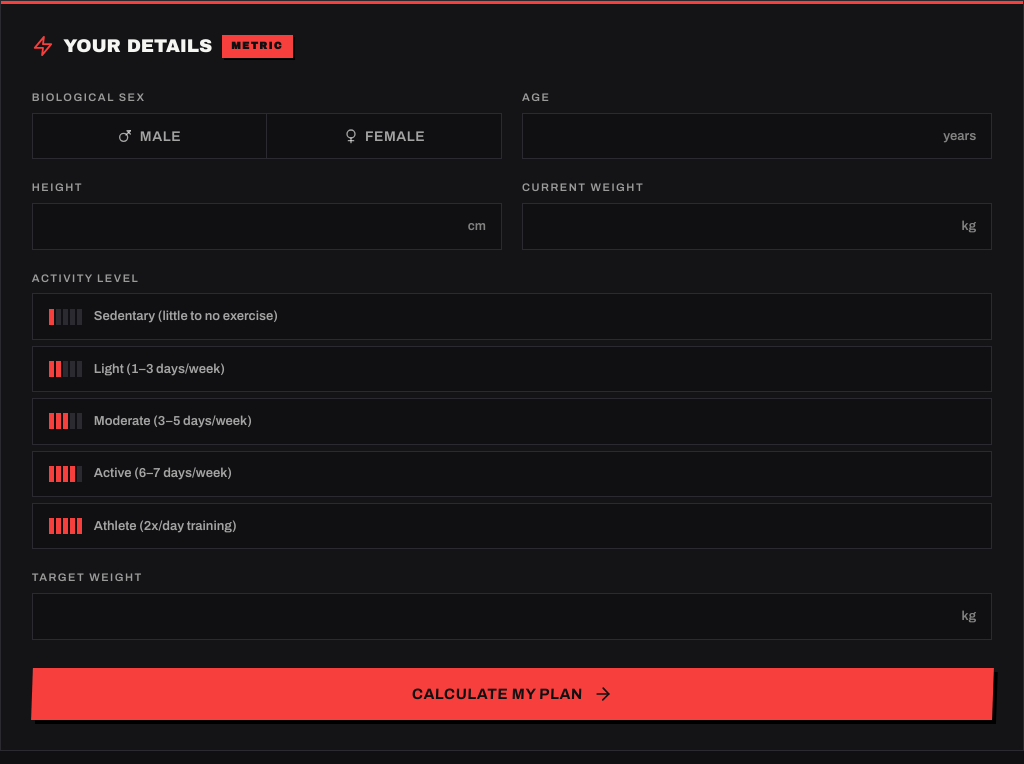
UserForm › validation › shows error for age above 100
Step 1. Type "120" into the number field next to "years" → coordinates (757, 136), box [522,113,992,159]
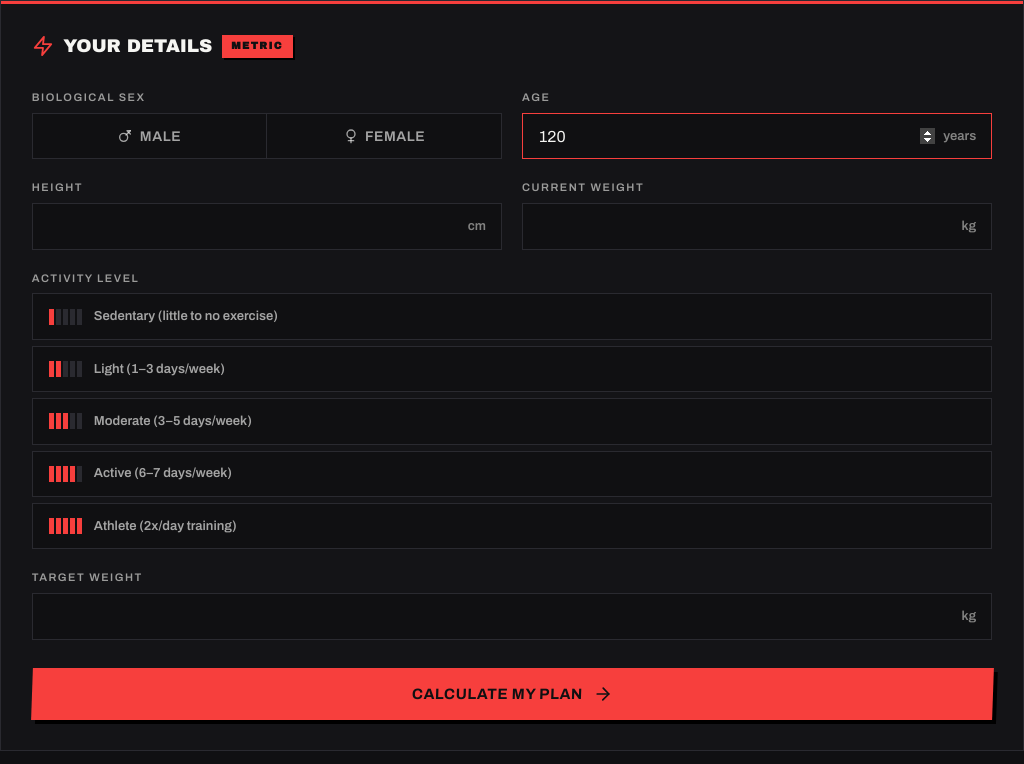
Step 2. Click the button "Calculate My Plan" → coordinates (512, 694), box [31,668,993,720]
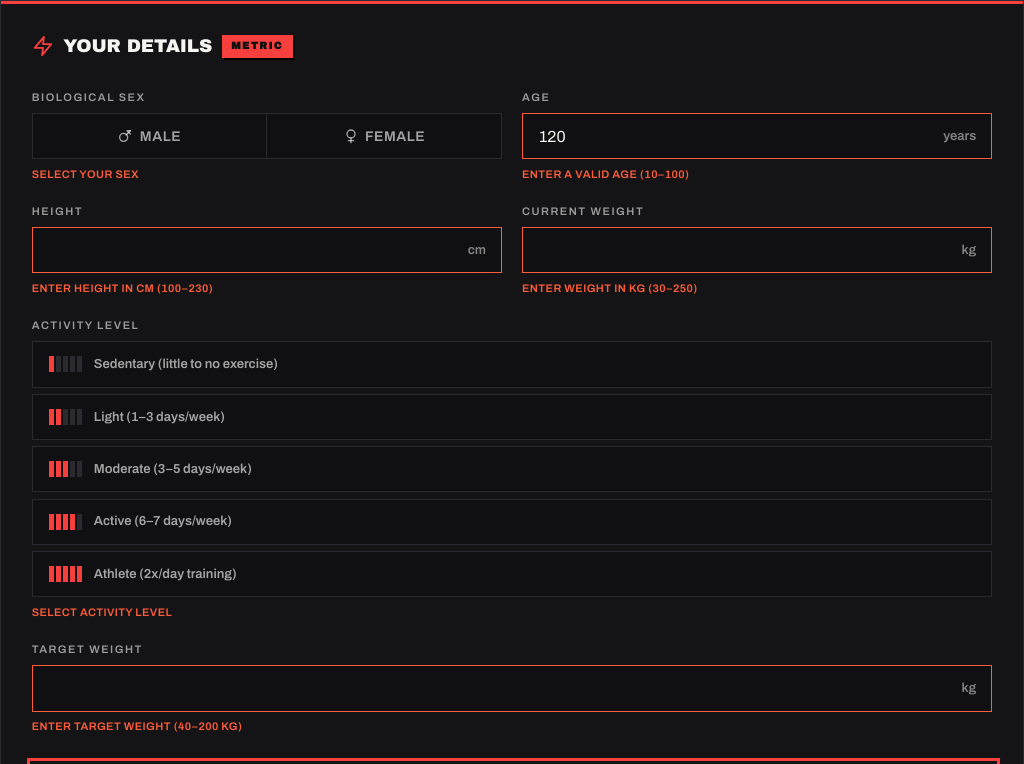
Result: the text "Enter a valid age (10–100)" is shown at [522,168,689,180]
